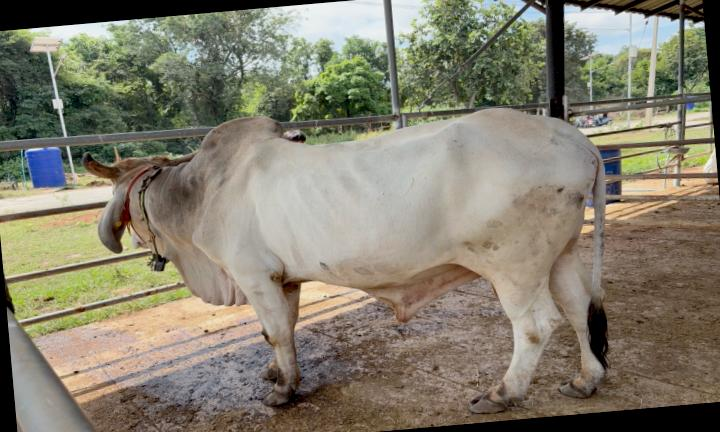Brahman: (82, 108, 609, 412)
